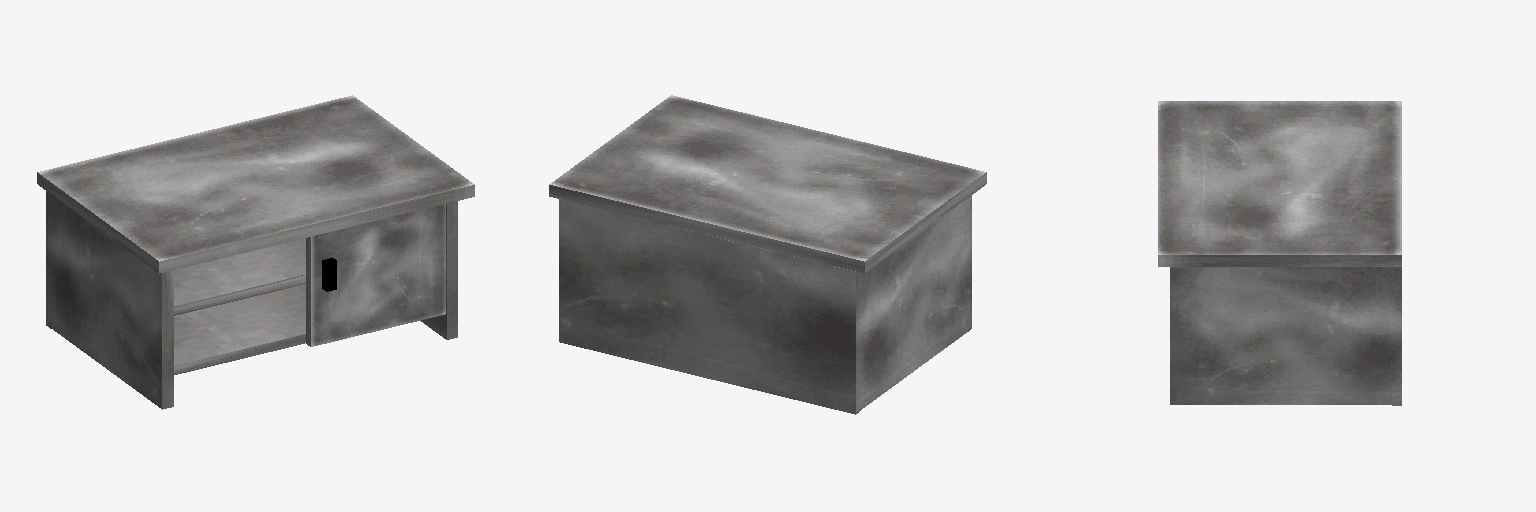
3 views of the same model, side by side, from view 1: azimuth 30°, elevation 25°; view 2: azimuth 150°, elevation 25°; view 3: azimuth 270°, elevation 25° (orthographic).
Parts seen in each view (by area): view 1: polySurface16, polySurface24; view 2: polySurface16; view 3: polySurface16.
Part boxes in pixels (bbox=[...]): polySurface16: bbox=[37, 95, 474, 409]; polySurface24: bbox=[306, 204, 445, 346]; polySurface16: bbox=[549, 95, 986, 414]; polySurface16: bbox=[1158, 101, 1401, 405].
Bounding box in the file's own units: 2.08 × 0.977 × 1.4.
2 materials, 1 textured.